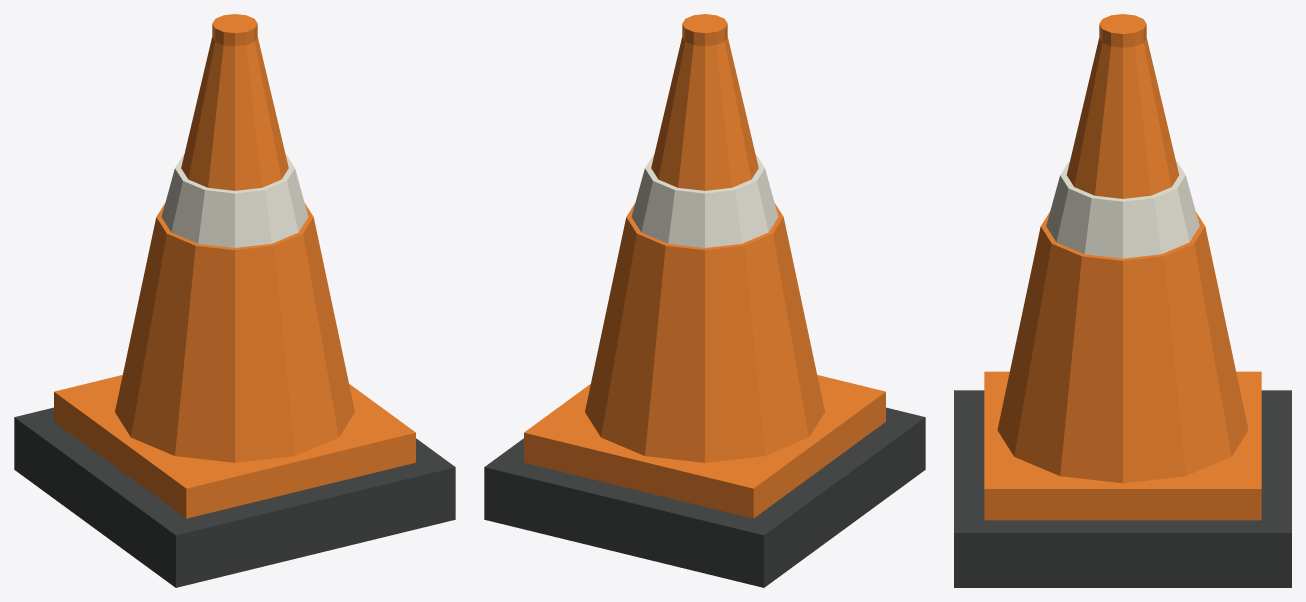
Rendered from traffic_cone.glb.
The picture shows the model from 3 angles, left to right: view 1: azimuth 30°, elevation 25°; view 2: azimuth 150°, elevation 25°; view 3: azimuth 270°, elevation 25°; orthographic projection. The views are drawn at different scales.
Parts seen in each view (by area): view 1: lower_cone, rubber_base, orange_base, upper_cone, reflective_band, top_cap; view 2: lower_cone, rubber_base, orange_base, upper_cone, reflective_band, top_cap; view 3: lower_cone, rubber_base, orange_base, upper_cone, reflective_band, top_cap.
Boxes of the visible parts, left/top/right/bottom form: lower_cone: left=115, top=203, right=354, bottom=462; rubber_base: left=14, top=407, right=455, bottom=587; orange_base: left=54, top=375, right=415, bottom=518; upper_cone: left=181, top=37, right=288, bottom=190; reflective_band: left=161, top=155, right=308, bottom=247; top_cap: left=212, top=14, right=257, bottom=46; lower_cone: left=585, top=203, right=824, bottom=462; rubber_base: left=484, top=407, right=925, bottom=587; orange_base: left=524, top=375, right=885, bottom=518; upper_cone: left=651, top=37, right=758, bottom=190; reflective_band: left=631, top=155, right=778, bottom=247; top_cap: left=682, top=14, right=727, bottom=46; lower_cone: left=997, top=212, right=1248, bottom=483; rubber_base: left=954, top=390, right=1291, bottom=587; orange_base: left=984, top=371, right=1261, bottom=520; upper_cone: left=1067, top=38, right=1178, bottom=198; reflective_band: left=1046, top=161, right=1199, bottom=258; top_cap: left=1099, top=14, right=1146, bottom=47.
Bounding box in the file's own units: 0.78 × 1.25 × 0.78.
